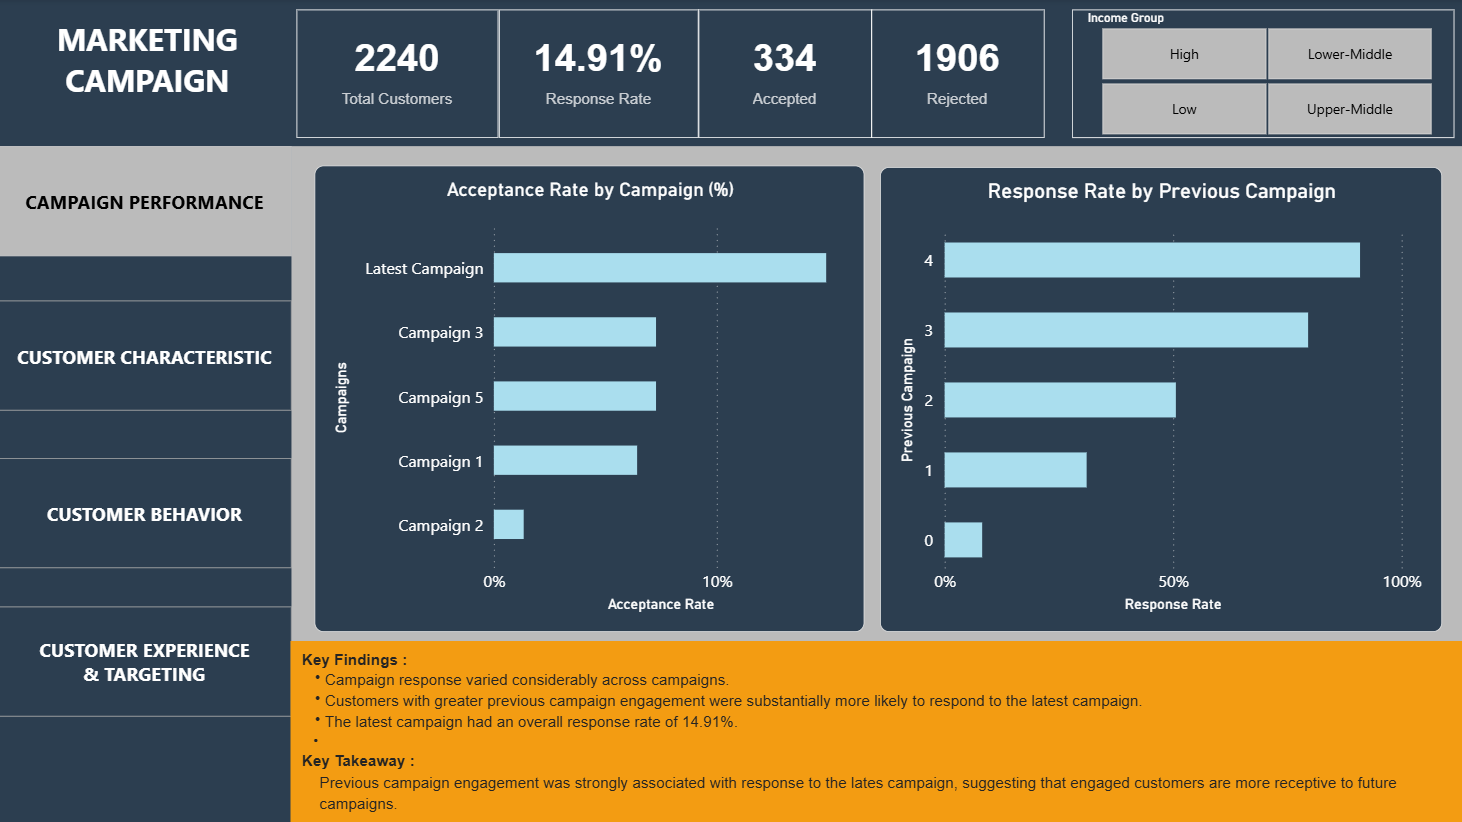

What the dashboard file says about the page in this screenshot:
{"tool":"powerbi","page":{"name":"Customer Performance","canvas":[1280,720],"ordinal":0},"visuals":[{"type":"shape","box":[255,0,1025,128.3],"z":0},{"type":"slicer","fields":{"Values":["marketing_campaign_cleaned.Income Group"]},"box":[935.8,9.1,333.1,112.1],"z":1000},{"type":"shape","box":[0,0,256,720],"z":2000},{"type":"textbox","box":[0,16.7,260,96.7],"z":3000},{"type":"textbox","box":[0,128.3,256,96],"z":4000},{"type":"textbox","box":[0,263.3,256,96],"z":5000},{"type":"textbox","box":[0,400,256,96],"z":6000},{"type":"textbox","box":[0,530,256,96],"z":7000},{"type":"cardVisual","fields":{"Data":["marketing_campaign_cleaned.Accepted"]},"box":[610,9,151,112],"z":8000},{"type":"cardVisual","fields":{"Data":["marketing_campaign_cleaned.Rejected"]},"box":[761,9,151,112],"z":9000},{"type":"cardVisual","fields":{"Data":["marketing_campaign_cleaned.Response Rate"]},"box":[436.1,9.1,174,112],"z":10000},{"type":"barChart","title":"Acceptance Rate by Campaign (%)","fields":{"Y":["Campaign.Cmp Acceptance Rate"],"Category":["Campaign.Campaign"]},"box":[275.5,145.5,479.1,406.4],"z":11000},{"type":"barChart","title":"Response Rate by Previous Campaign","fields":{"Y":["marketing_campaign_cleaned.Response Rate"],"Category":["marketing_campaign_cleaned.Previous cmp"]},"box":[768.2,146.4,490,405.5],"z":12000},{"type":"cardVisual","fields":{"Data":["marketing_campaign_cleaned.total_customers"]},"box":[260,8.9,176,112],"z":13000},{"type":"textbox","box":[255.6,560,1024.4,160],"z":14000},{"type":"actionButton","box":[0,262.7,255.3,95.4],"z":15000},{"type":"actionButton","box":[0,399.1,255.3,95.4],"z":16000},{"type":"actionButton","box":[0,529.7,255.3,95.4],"z":17000}]}

Visuals, with their boxes in screenshot pixels (x1, y1, x2, y2), scaled from the page's 1280x720 canvas onto the 1462x822 screenshot:
shape: {"x1": 291, "y1": 0, "x2": 1461, "y2": 146}
slicer - marketing_campaign_cleaned.Income Group: {"x1": 1069, "y1": 10, "x2": 1449, "y2": 138}
shape: {"x1": 0, "y1": 0, "x2": 292, "y2": 821}
textbox: {"x1": 0, "y1": 19, "x2": 297, "y2": 129}
textbox: {"x1": 0, "y1": 146, "x2": 292, "y2": 256}
textbox: {"x1": 0, "y1": 301, "x2": 292, "y2": 410}
textbox: {"x1": 0, "y1": 457, "x2": 292, "y2": 566}
textbox: {"x1": 0, "y1": 605, "x2": 292, "y2": 715}
cardVisual - marketing_campaign_cleaned.Accepted: {"x1": 697, "y1": 10, "x2": 869, "y2": 138}
cardVisual - marketing_campaign_cleaned.Rejected: {"x1": 869, "y1": 10, "x2": 1042, "y2": 138}
cardVisual - marketing_campaign_cleaned.Response Rate: {"x1": 498, "y1": 10, "x2": 697, "y2": 138}
"Acceptance Rate by Campaign (%)" barChart: {"x1": 315, "y1": 166, "x2": 862, "y2": 630}
"Response Rate by Previous Campaign" barChart: {"x1": 877, "y1": 167, "x2": 1437, "y2": 630}
cardVisual - marketing_campaign_cleaned.total_customers: {"x1": 297, "y1": 10, "x2": 498, "y2": 138}
textbox: {"x1": 292, "y1": 639, "x2": 1461, "y2": 821}
actionButton: {"x1": 0, "y1": 300, "x2": 292, "y2": 409}
actionButton: {"x1": 0, "y1": 456, "x2": 292, "y2": 565}
actionButton: {"x1": 0, "y1": 605, "x2": 292, "y2": 714}
